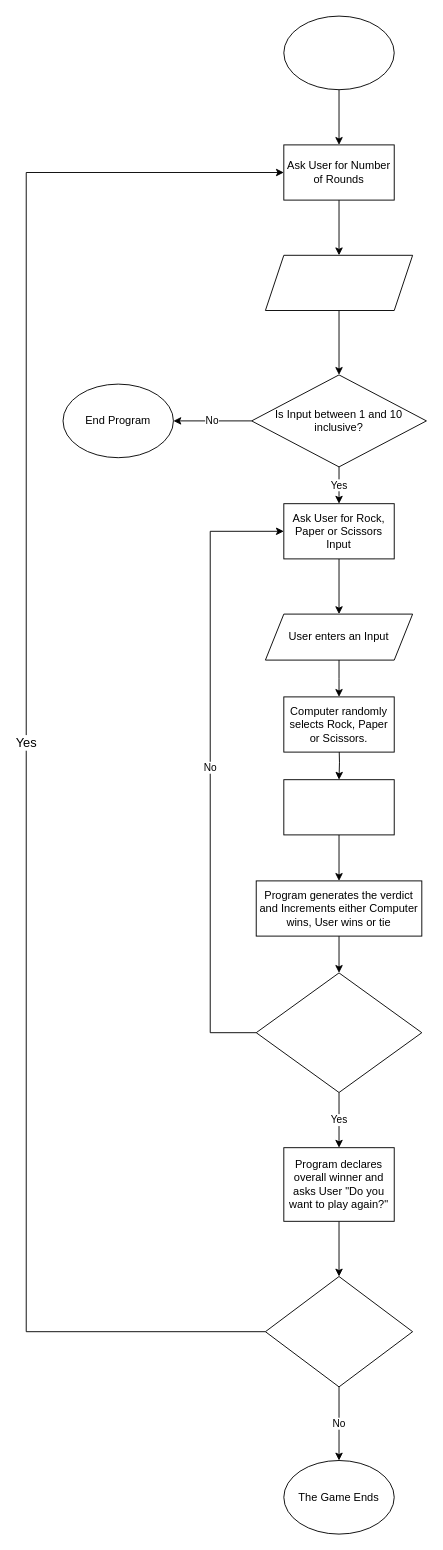
Some shapes in this 443 by 1550 pixel diagram are drawn without their labels. Here are the shapes that lost their labels. From the top down, the centre of each, then its label:
At (338,52): "Start".
At (338,282): "User gives number of Rounds".
At (338,807): "Program compares User Choice to Computer Choice".
At (338,1032): "Is the sum of Computer Win, User Win and Tie >= User Input(no of plays)".
At (338,1331): "User Inputs Yes or No".
